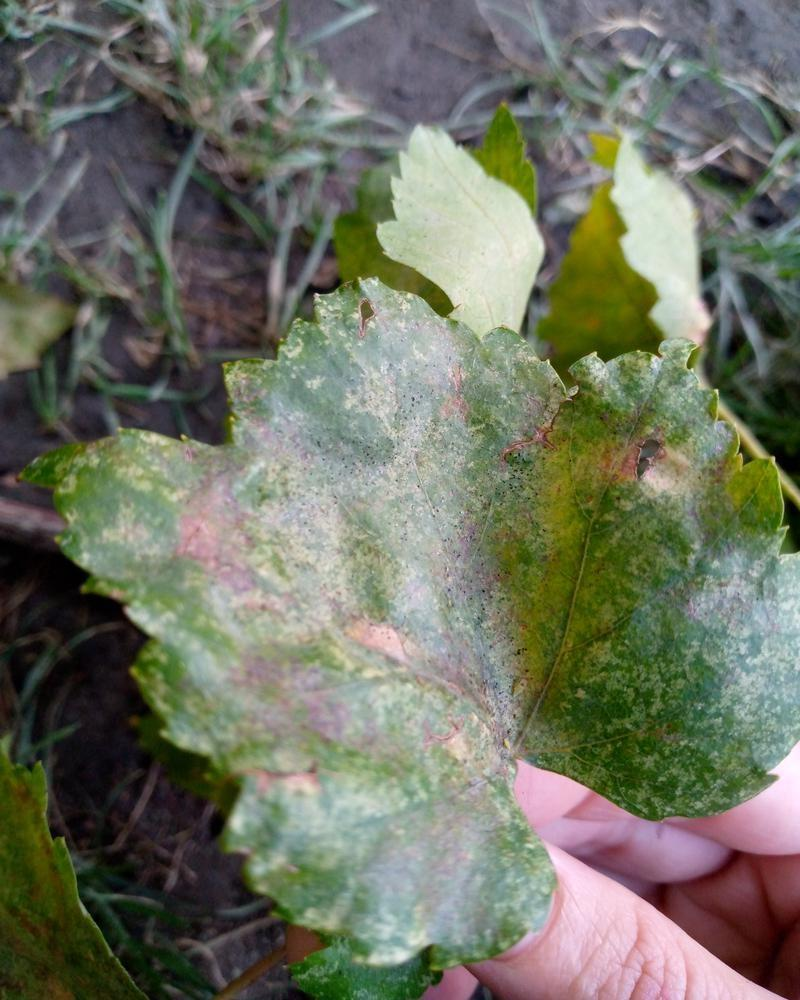Powdery-Mildew: (344, 340, 479, 583), (362, 783, 513, 950), (522, 436, 699, 572), (170, 475, 286, 607), (224, 637, 346, 756), (328, 592, 433, 679), (287, 464, 350, 527), (432, 707, 495, 770)
